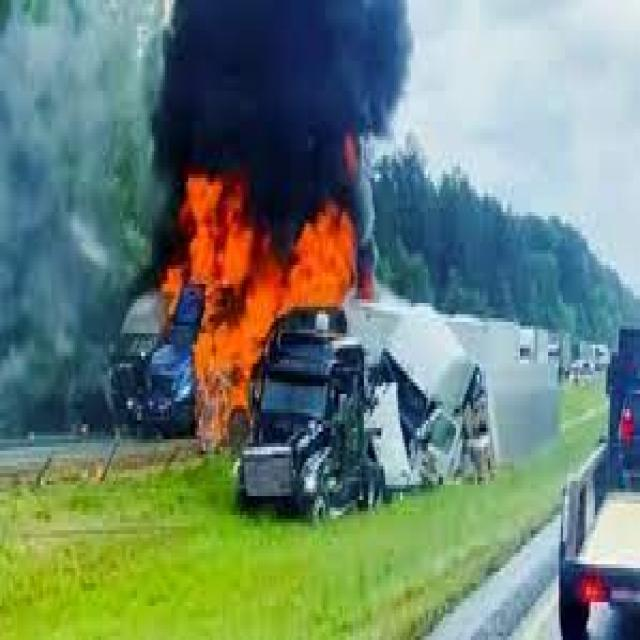fire: (167, 178, 364, 451)
smoke: (144, 3, 418, 292), (2, 4, 144, 454)
